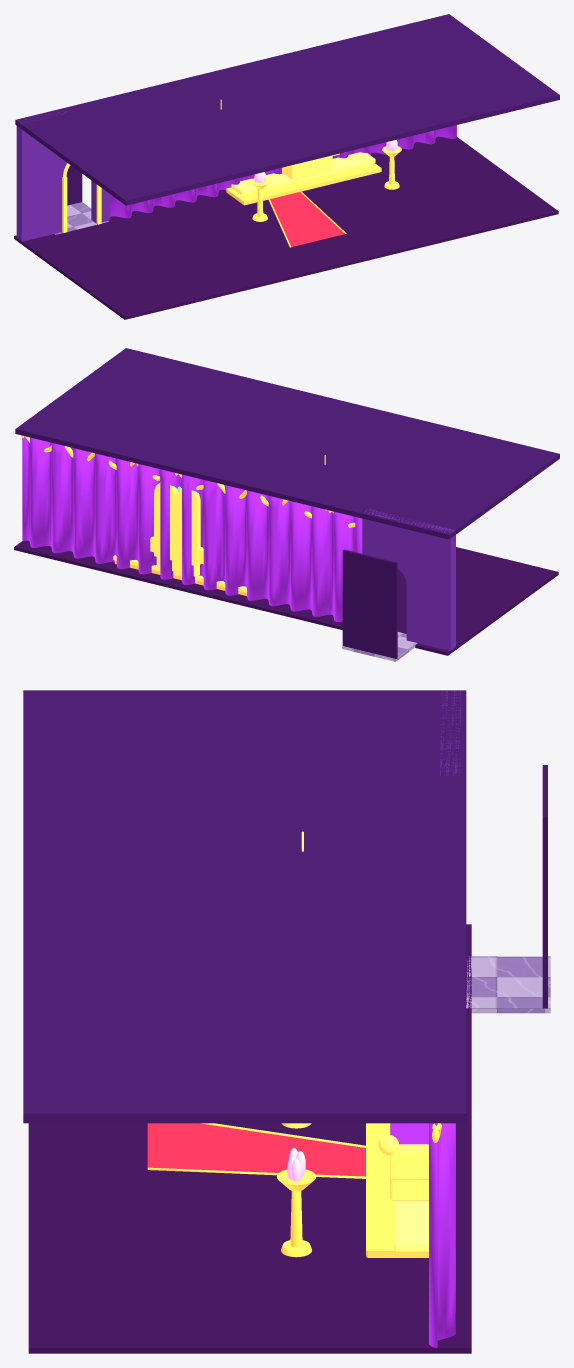
Rendered from thron.glb.
The picture shows the model from 3 angles, top to bottom: view 1: azimuth 30°, elevation 25°; view 2: azimuth 150°, elevation 25°; view 3: azimuth 270°, elevation 25°; orthographic projection. The views are drawn at different scales.
Visible parts, largest first — view 1: TH_Decke.001, TH_Boden.001, TH_Wand.001, TH_Vorhaenge.001, TH_Laeufer.001, TH_Stufe0.001, TH_Stufe1.001, TH_Sitz.001, TH_VorraumGangBoden.001, TH_VorraumGang.001; view 2: TH_Decke.001, TH_Vorhaenge.001, TH_Boden.001, TH_Wand.001, TH_VorraumGang.001, TH_Lehne.001, TH_VorraumGangBoden.001; view 3: TH_Decke.001, TH_Boden.001, TH_Laeufer.001, TH_Vorhaenge.001, TH_VorraumGangBoden.001, TH_Stufe0.001, TH_Stufe1.001, TH_VorraumGang.001, TH_Armlehne1.001, TH_Sitz.001.
Boxes of the visible parts, bbox=[...] form: TH_Decke.001: bbox=[15, 14, 559, 205]; TH_Boden.001: bbox=[14, 136, 558, 319]; TH_Wand.001: bbox=[16, 111, 110, 241]; TH_Vorhaenge.001: bbox=[110, 125, 456, 218]; TH_Laeufer.001: bbox=[270, 192, 344, 246]; TH_Stufe0.001: bbox=[226, 163, 381, 205]; TH_Stufe1.001: bbox=[231, 152, 375, 195]; TH_Sitz.001: bbox=[282, 155, 332, 179]; TH_VorraumGangBoden.001: bbox=[55, 202, 108, 234]; TH_VorraumGang.001: bbox=[66, 165, 82, 205]; TH_Decke.001: bbox=[15, 348, 559, 539]; TH_Vorhaenge.001: bbox=[22, 436, 362, 621]; TH_Boden.001: bbox=[14, 540, 558, 655]; TH_Wand.001: bbox=[362, 509, 455, 650]; TH_VorraumGang.001: bbox=[342, 549, 397, 658]; TH_Lehne.001: bbox=[154, 482, 200, 566]; TH_VorraumGangBoden.001: bbox=[342, 632, 417, 661]; TH_Decke.001: bbox=[23, 690, 466, 1123]; TH_Boden.001: bbox=[28, 924, 471, 1353]; TH_Laeufer.001: bbox=[147, 1123, 365, 1176]; TH_Vorhaenge.001: bbox=[429, 1123, 455, 1347]; TH_VorraumGangBoden.001: bbox=[466, 956, 550, 1013]; TH_Stufe0.001: bbox=[366, 1123, 428, 1257]; TH_Stufe1.001: bbox=[395, 1200, 428, 1251]; TH_VorraumGang.001: bbox=[542, 765, 547, 1008]; TH_Armlehne1.001: bbox=[390, 1144, 428, 1179]; TH_Sitz.001: bbox=[390, 1125, 428, 1200].
Bounding box in the file's own units: 19.07 × 5.43 × 10.
15 materials, 1 textured.
